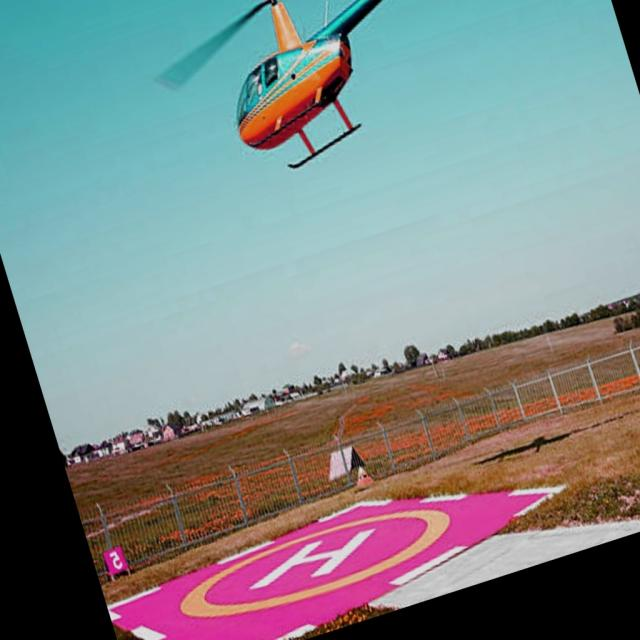helipad: (176, 504, 455, 621)
